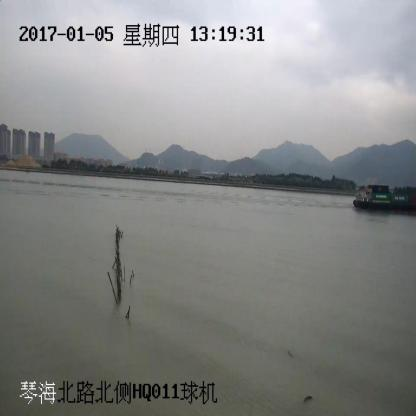Container Ship: (352, 186, 416, 211)
